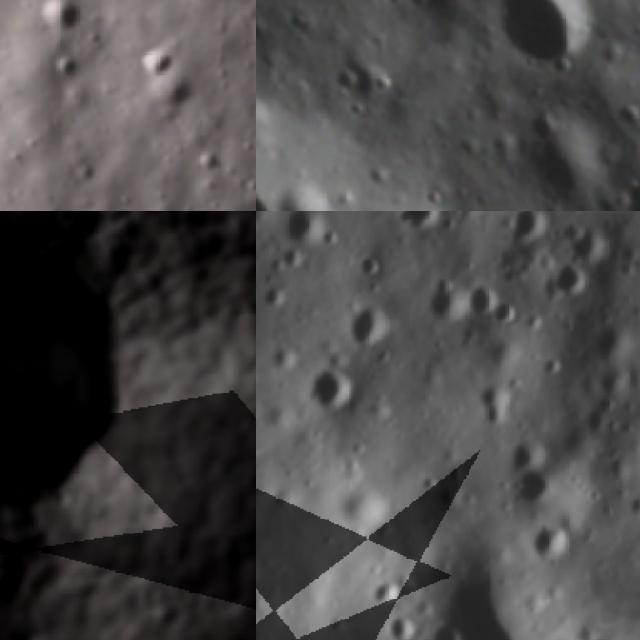crater: (0, 211, 164, 541), (256, 43, 465, 211), (349, 556, 589, 640), (491, 92, 630, 211), (256, 341, 311, 640), (462, 0, 622, 87), (331, 295, 413, 375), (290, 352, 370, 432), (412, 268, 489, 346), (457, 367, 533, 443), (496, 450, 566, 524), (553, 211, 625, 279), (533, 250, 600, 318), (266, 211, 340, 265), (454, 272, 516, 336), (581, 311, 640, 377), (522, 514, 580, 576), (491, 211, 559, 259), (38, 0, 109, 44), (587, 357, 640, 410), (410, 606, 485, 640), (383, 211, 457, 245), (362, 571, 412, 620), (369, 602, 429, 640), (346, 246, 395, 292), (132, 41, 175, 92), (601, 159, 640, 211), (164, 76, 208, 122), (530, 342, 575, 386), (569, 397, 613, 442), (263, 336, 305, 378), (256, 277, 294, 318), (69, 159, 111, 194), (414, 464, 451, 503), (533, 617, 593, 640), (256, 549, 274, 601)
